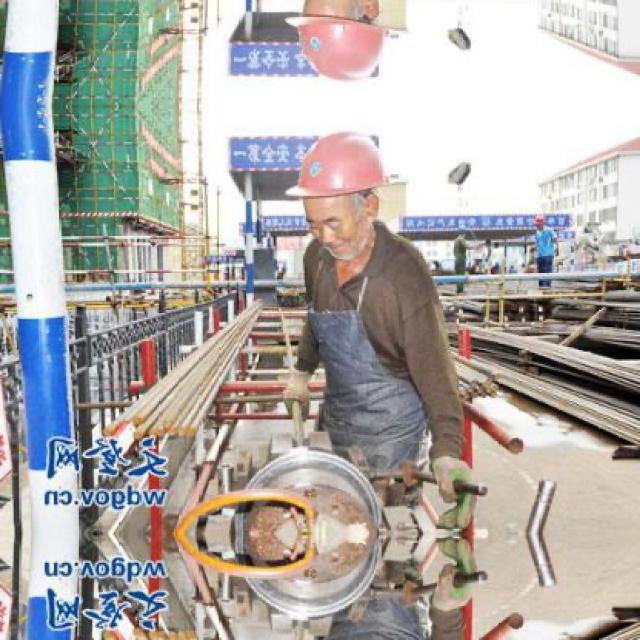con casco: (233, 115, 414, 262)
